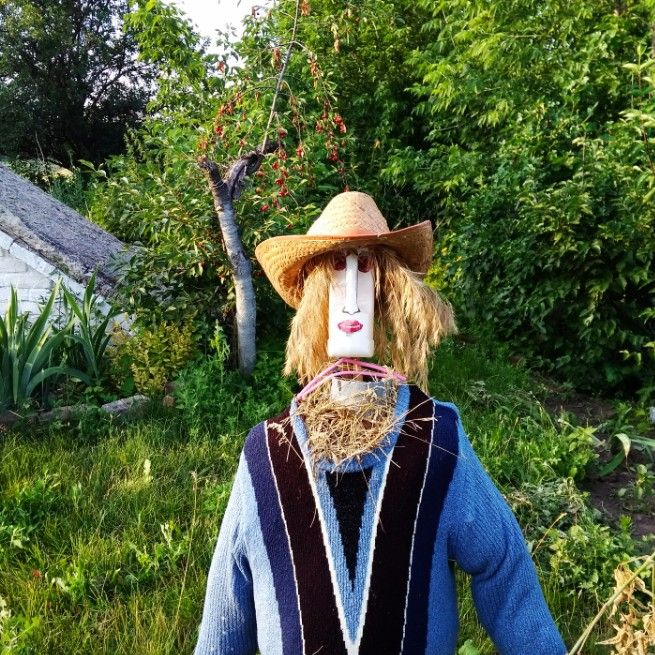person-like: (174, 187, 568, 655)
